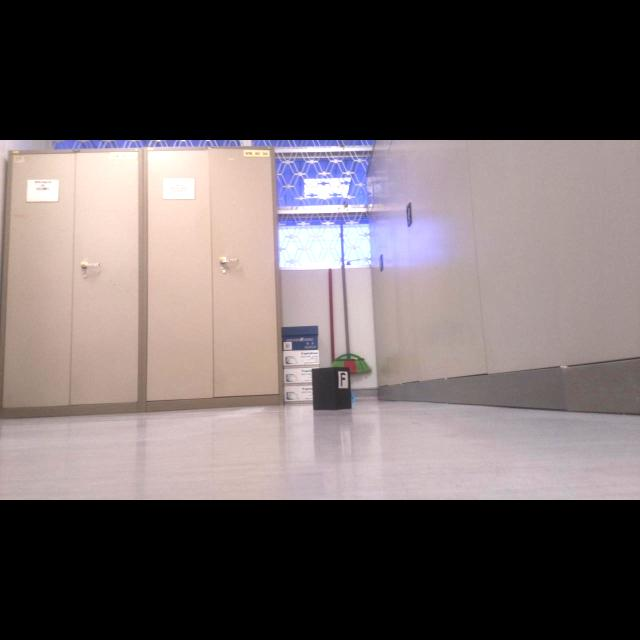F: (341, 373, 346, 386)
